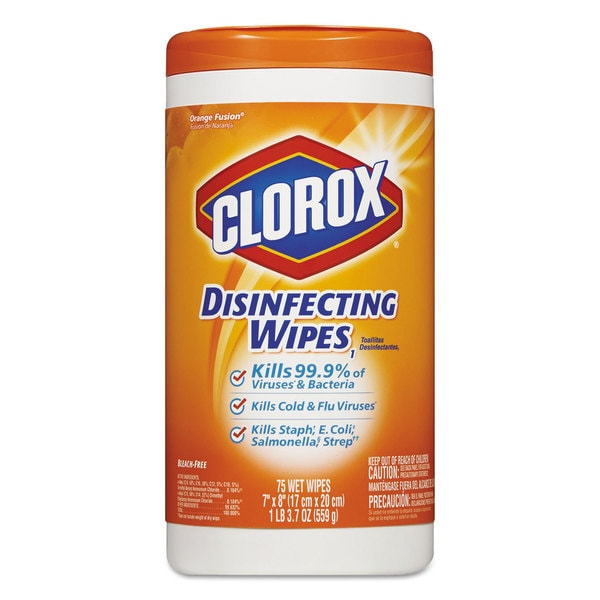Wipes: (161, 22, 439, 578)
